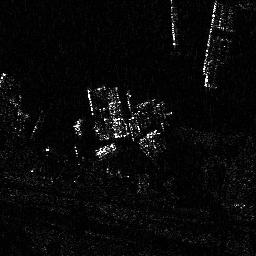ship: (94, 143, 119, 159)
